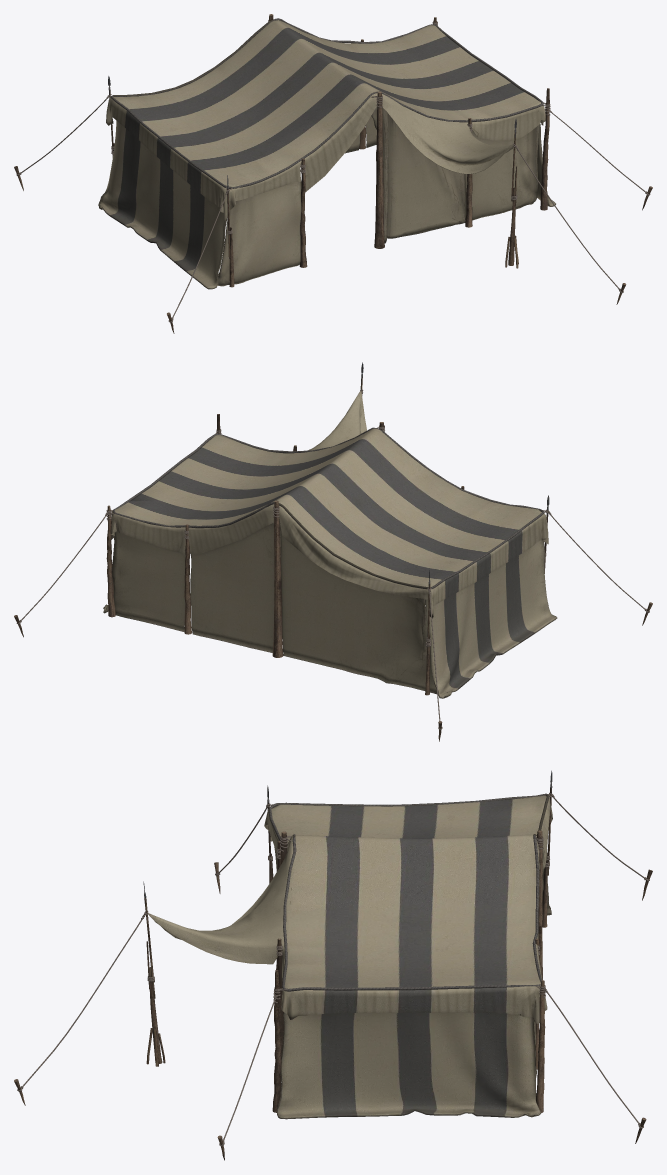
The model's file is tienda glb.final-test.glb.
3 renders of one model, top to bottom at view 1: azimuth 30°, elevation 25°; view 2: azimuth 150°, elevation 25°; view 3: azimuth 270°, elevation 25°, orthographic. The views are drawn at different scales.
Parts seen in each view (by area): view 1: tent; view 2: tent; view 3: tent.
Part boxes in pixels (<box>): tent: <box>14,14,652,333</box>; tent: <box>14,362,652,741</box>; tent: <box>14,770,652,1160</box>.
Size of the model in its own units: 1 by 0.3243 by 0.9493.
5 materials, 5 textured.
